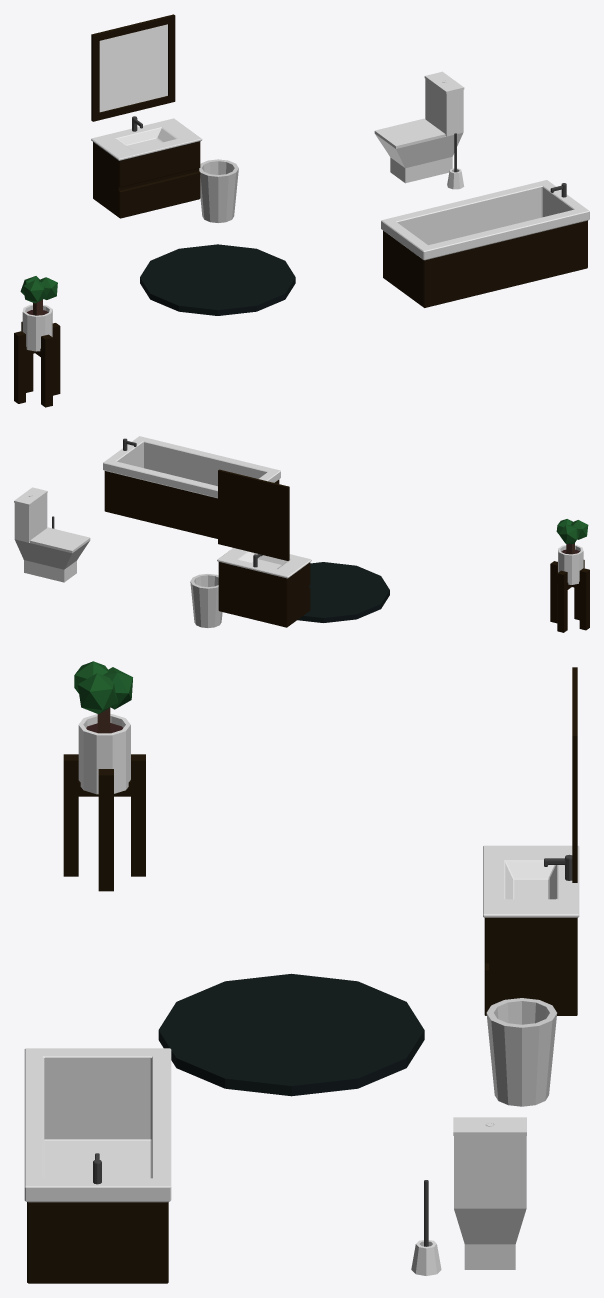
Rendered from PropsServicio.fbx.
The picture shows the model from 3 angles, top to bottom: view 1: azimuth 30°, elevation 25°; view 2: azimuth 150°, elevation 25°; view 3: azimuth 270°, elevation 25°; orthographic projection. The views are drawn at different scales.
Visible parts, largest first — view 1: Estructura_Bañera, Estructura_Lavabo, Alfombra_Baño, Espejo, Retrete, Basura, Estructura_Maceta_1, Estructura_Maceta_2, Maceta; view 2: Estructura_Bañera, Estructura_Lavabo, Espejo, Retrete, Alfombra_Baño, Basura, Estructura_Maceta_1, Estructura_Maceta_2, Maceta, Hojas_2; view 3: Estructura_Bañera, Alfombra_Baño, Estructura_Lavabo, Retrete, Basura, Estructura_Maceta_2, Maceta, Estructura_Maceta_1, Espejo, Hojas_3, Base.
Part boxes in pixels (x1=…): Estructura_Bañera: x1=381, y1=180, x2=589, y2=307; Estructura_Lavabo: x1=91, y1=118, x2=202, y2=218; Alfombra_Baño: x1=140, y1=244, x2=295, y2=315; Espejo: x1=91, y1=14, x2=175, y2=121; Retrete: x1=374, y1=71, x2=464, y2=183; Basura: x1=199, y1=159, x2=238, y2=222; Estructura_Maceta_1: x1=14, y1=323, x2=60, y2=403; Estructura_Maceta_2: x1=21, y1=321, x2=52, y2=407; Maceta: x1=22, y1=304, x2=52, y2=351; Estructura_Bañera: x1=103, y1=436, x2=280, y2=538; Estructura_Lavabo: x1=217, y1=548, x2=311, y2=627; Espejo: x1=218, y1=469, x2=289, y2=560; Retrete: x1=14, y1=487, x2=90, y2=582; Alfombra_Baño: x1=297, y1=562, x2=389, y2=622; Basura: x1=190, y1=574, x2=222, y2=627; Estructura_Maceta_1: x1=550, y1=561, x2=589, y2=630; Estructura_Maceta_2: x1=557, y1=560, x2=584, y2=632; Maceta: x1=558, y1=545, x2=583, y2=584; Hojas_2: x1=559, y1=525, x2=578, y2=543; Estructura_Bañera: x1=24, y1=1048, x2=171, y2=1283; Alfombra_Baño: x1=158, y1=973, x2=424, y2=1096; Estructura_Lavabo: x1=483, y1=845, x2=579, y2=1015; Retrete: x1=453, y1=1117, x2=526, y2=1269; Basura: x1=486, y1=998, x2=557, y2=1106; Estructura_Maceta_2: x1=63, y1=754, x2=145, y2=876; Maceta: x1=78, y1=714, x2=130, y2=794; Estructura_Maceta_1: x1=98, y1=769, x2=113, y2=891; Espejo: x1=572, y1=667, x2=577, y2=882; Hojas_3: x1=77, y1=673, x2=117, y2=714; Base: x1=411, y1=1240, x2=441, y2=1275.
Size of the model in its own units: 537 by 200 by 275.
